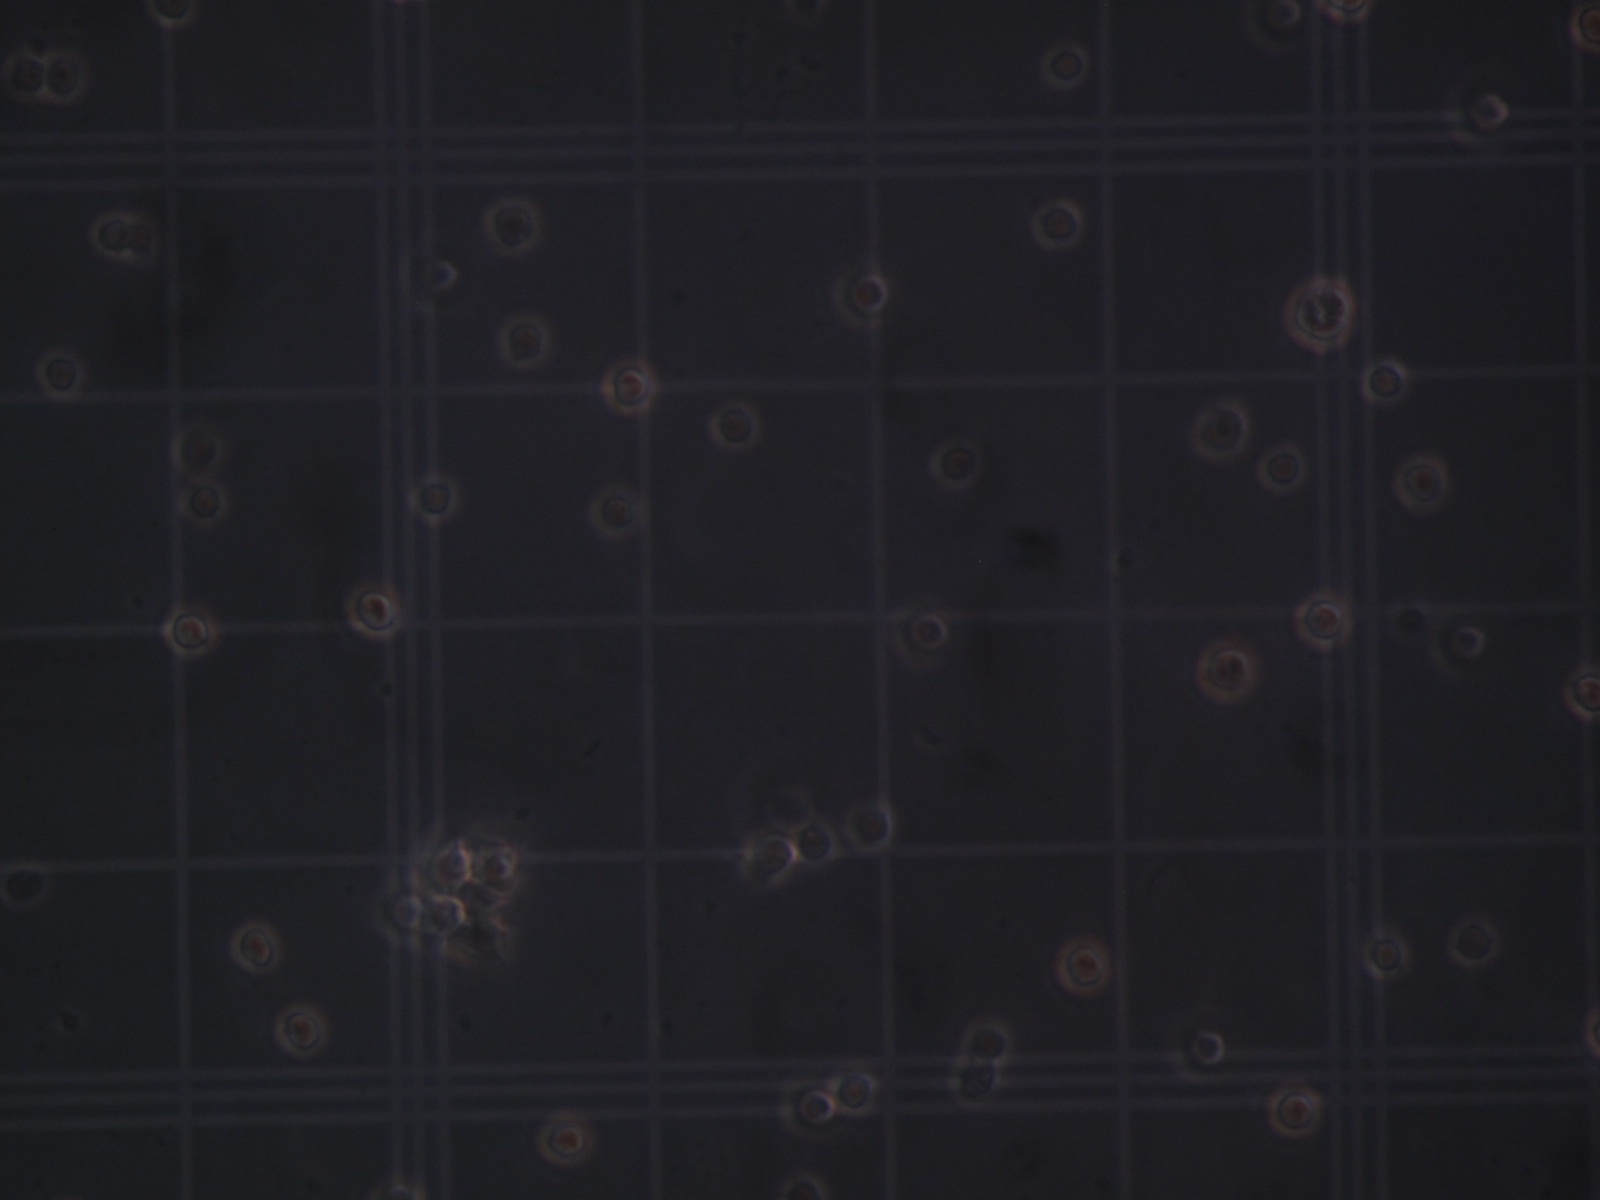hemo: (1283, 276, 1356, 352), (1443, 76, 1511, 149), (396, 243, 460, 316), (440, 915, 515, 971), (1168, 1016, 1226, 1084), (1431, 611, 1485, 682), (1191, 400, 1250, 463), (831, 266, 889, 330), (889, 605, 949, 667), (777, 1079, 837, 1141), (1196, 642, 1255, 702), (372, 884, 427, 947), (483, 195, 540, 255), (741, 828, 797, 887), (414, 834, 472, 891), (1295, 591, 1352, 649), (1241, 1, 1304, 53), (600, 358, 656, 415), (344, 584, 402, 639), (496, 313, 552, 369), (1393, 455, 1449, 512), (1054, 938, 1110, 995), (535, 1116, 596, 1166), (170, 422, 226, 476), (161, 605, 218, 658), (273, 1005, 328, 1059), (588, 485, 641, 539), (929, 437, 981, 490), (1267, 1085, 1322, 1137), (231, 920, 282, 974), (947, 1058, 1003, 1108), (471, 837, 519, 894), (709, 400, 761, 451), (1031, 199, 1083, 250), (421, 889, 467, 945), (35, 348, 86, 400), (1448, 918, 1499, 967), (847, 800, 894, 853), (1362, 926, 1410, 979), (43, 50, 88, 105), (1, 860, 50, 909), (411, 473, 459, 522), (89, 212, 137, 260), (1259, 445, 1306, 493), (1361, 358, 1409, 406), (3, 50, 47, 102), (829, 1069, 877, 1116), (1041, 43, 1089, 89), (963, 1020, 1012, 1065), (181, 479, 228, 526), (794, 819, 839, 867), (1562, 663, 1600, 720), (1570, 3, 1600, 52), (147, 1, 197, 28), (779, 1174, 826, 1200), (1318, 1, 1373, 21), (1585, 1005, 1600, 1061)
